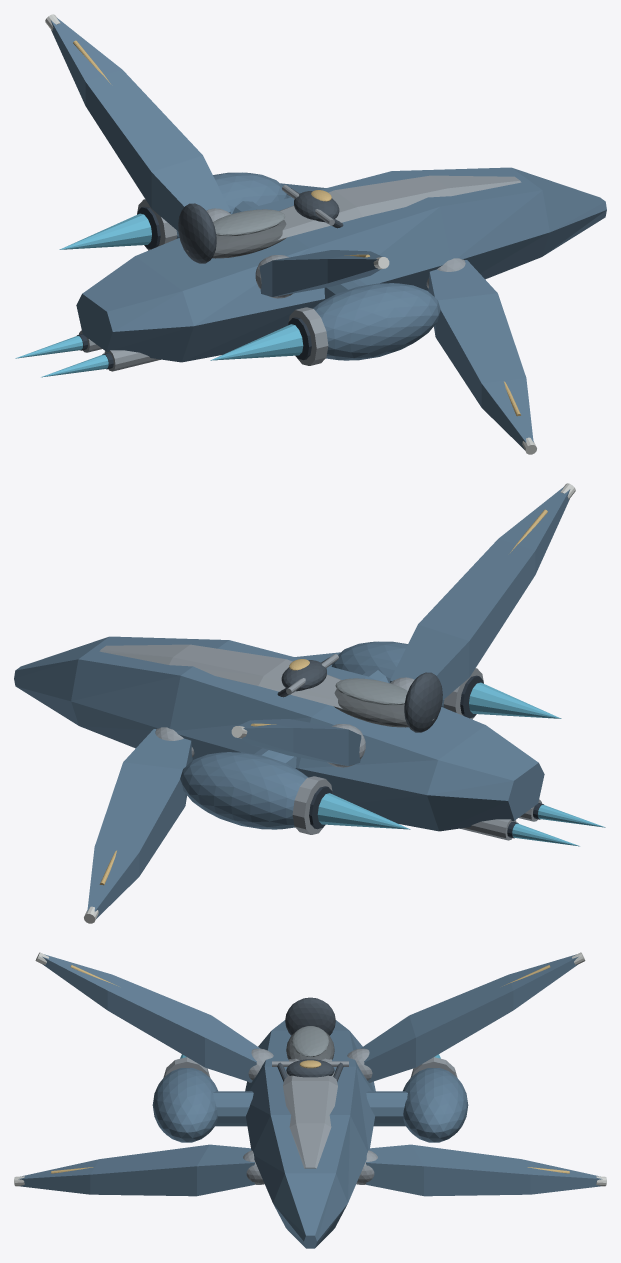
File: busan_pulse_blue_flight.glb
The picture shows the model from 3 angles, top to bottom: view 1: azimuth 30°, elevation 25°; view 2: azimuth 150°, elevation 25°; view 3: azimuth 270°, elevation 25°; orthographic projection. The views are drawn at different scales.
Visible parts, largest first — view 1: center_hull_0, rear_wings_7, front_wings_10, side_turbine_housing_12, central_panel_1, side_thruster_blue_flame_19, seat_back_3, turbine_rim_13, saddle_pad_20, saddle_2, lower_thruster_blue_flame_18, turbine_dark_inner_14 (+3 smaller); view 2: center_hull_0, rear_wings_7, front_wings_10, side_turbine_housing_12, central_panel_1, side_thruster_blue_flame_19, seat_back_3, turbine_rim_13, saddle_pad_20, saddle_2, lower_thruster_blue_flame_18, turbine_dark_inner_14 (+3 smaller); view 3: front_wings_10, rear_wings_7, center_hull_0, side_turbine_housing_12, central_panel_1, pod_arm_11, wing_hinges_6, seat_back_3, saddle_pad_20, turbine_rim_13, instrument_cluster_21, saddle_2 (+2 smaller).
Boxes of the visible parts, x1,y1,x2,y2 form: center_hull_0: (76,167,606,362); rear_wings_7: (50,18,382,296); front_wings_10: (280,183,533,449); side_turbine_housing_12: (176,172,440,360); central_panel_1: (278,175,521,239); side_thruster_blue_flame_19: (59,213,303,360); seat_back_3: (178,203,216,263); turbine_rim_13: (137,199,328,365); saddle_pad_20: (213,209,285,236); saddle_2: (186,220,286,258); lower_thruster_blue_flame_18: (15,335,108,377); turbine_dark_inner_14: (137,206,311,360); center_hull_0: (14,636,544,831); rear_wings_7: (238,487,570,765); front_wings_10: (87,652,340,918); side_turbine_housing_12: (180,641,444,829); central_panel_1: (99,644,342,708); side_thruster_blue_flame_19: (317,682,561,829); seat_back_3: (404,672,442,732); turbine_rim_13: (292,668,483,834); saddle_pad_20: (335,678,407,705); saddle_2: (334,689,434,727); lower_thruster_blue_flame_18: (512,804,605,846); turbine_dark_inner_14: (309,675,483,829); front_wings_10: (18,1144,602,1196); rear_wings_7: (42,954,578,1082); center_hull_0: (245,1020,375,1248); side_turbine_housing_12: (152,1068,468,1142); central_panel_1: (283,1058,337,1168); pod_arm_11: (213,1091,407,1126); wing_hinges_6: (243,1048,377,1184); seat_back_3: (285,997,335,1035); saddle_pad_20: (291,1026,329,1056); turbine_rim_13: (163,1057,457,1077); instrument_cluster_21: (286,1059,334,1077); saddle_2: (286,1032,334,1059).
Size of the model in its own units: 4.93 by 1.8 by 5.37.
